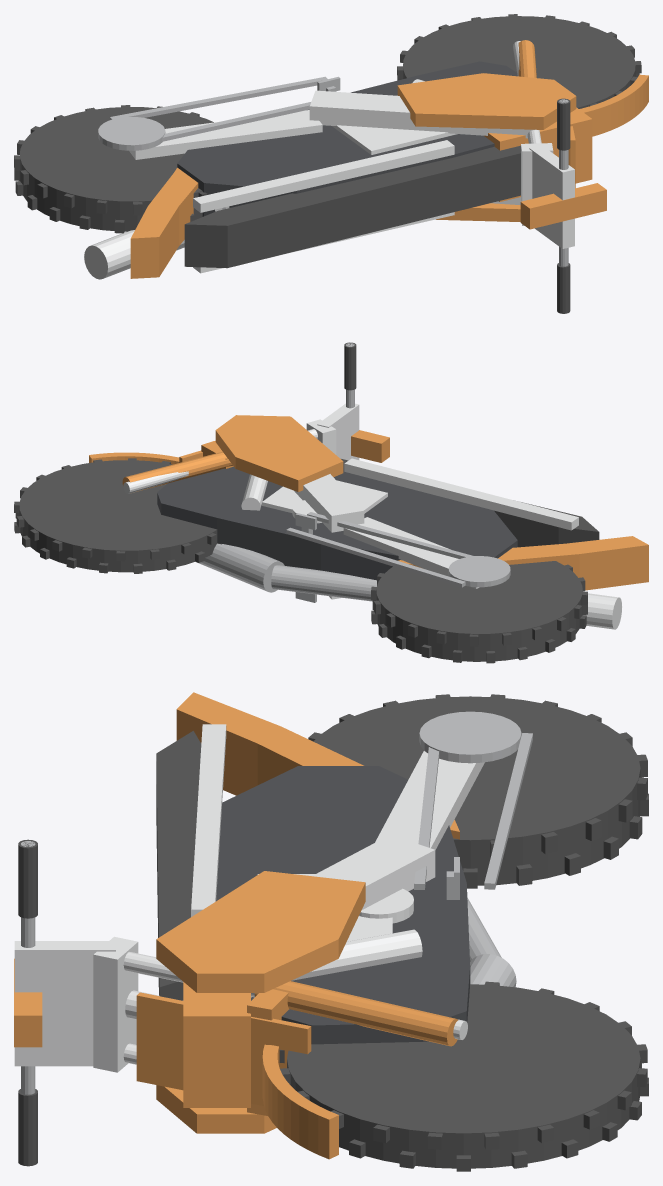
File: motocross.glb
The picture shows the model from 3 angles, top to bottom: view 1: azimuth 30°, elevation 25°; view 2: azimuth 150°, elevation 25°; view 3: azimuth 270°, elevation 25°; orthographic projection. The views are drawn at different scales.
Parts seen in each view (by area): view 1: seat_130, tire_r_48, tire_f_0, frame_core_129, shroud1_133, rear_fender_135, subframe1_119, spar1_117, swingarm1_139, bar_pad_111, tank_131, front_fender_134 (+13 smaller); view 2: frame_core_129, tire_r_48, tire_f_0, shroud1_133, rear_fender_135, subframe1_119, chamber_tail_126, swingarm1_139, chamber_belly_125, spar1_117, seat_130, sprocket_98 (+12 smaller); view 3: tire_f_0, frame_core_129, tire_r_48, shroud1_133, seat_130, tank_131, rear_fender_135, front_plate_113, fork_boot1_102, riser1_107, clamp0_104, subframe1_119 (+19 smaller).
Boxes of the visible parts, x1,y1,x2,y2 form: seat_130: (184, 145, 520, 268); tire_r_48: (19, 107, 213, 231); tire_f_0: (403, 16, 635, 108); frame_core_129: (177, 61, 517, 216); shroud1_133: (397, 73, 576, 129); rear_fender_135: (130, 167, 198, 278); subframe1_119: (193, 140, 454, 212); spar1_117: (309, 90, 534, 138); swingarm1_139: (129, 110, 322, 159); bar_pad_111: (520, 183, 606, 229); tank_131: (484, 107, 592, 201); front_fender_134: (579, 74, 648, 136); frame_core_129: (157, 466, 517, 580); tire_r_48: (376, 561, 582, 661); tire_f_0: (19, 460, 217, 572); shroud1_133: (215, 415, 343, 491); rear_fender_135: (398, 536, 648, 590); subframe1_119: (344, 458, 578, 530); chamber_tail_126: (271, 565, 376, 601); swingarm1_139: (343, 517, 479, 588); chamber_belly_125: (195, 543, 284, 592); spar1_117: (294, 474, 364, 532); seat_130: (341, 459, 599, 547); sprocket_98: (448, 556, 510, 587); tire_f_0: (287, 984, 640, 1168); frame_core_129: (216, 766, 470, 1044); tire_r_48: (313, 696, 640, 885); shroud1_133: (156, 871, 365, 992); seat_130: (156, 731, 201, 1000); tank_131: (183, 982, 250, 1107); rear_fender_135: (176, 692, 459, 839); front_plate_113: (136, 992, 311, 1105); fork_boot1_102: (254, 981, 458, 1046); riser1_107: (14, 941, 115, 1010); clamp0_104: (93, 936, 138, 1072); subframe1_119: (191, 724, 226, 916).
Size of the model in its own units: 2.29 by 0.7745 by 1.4.
